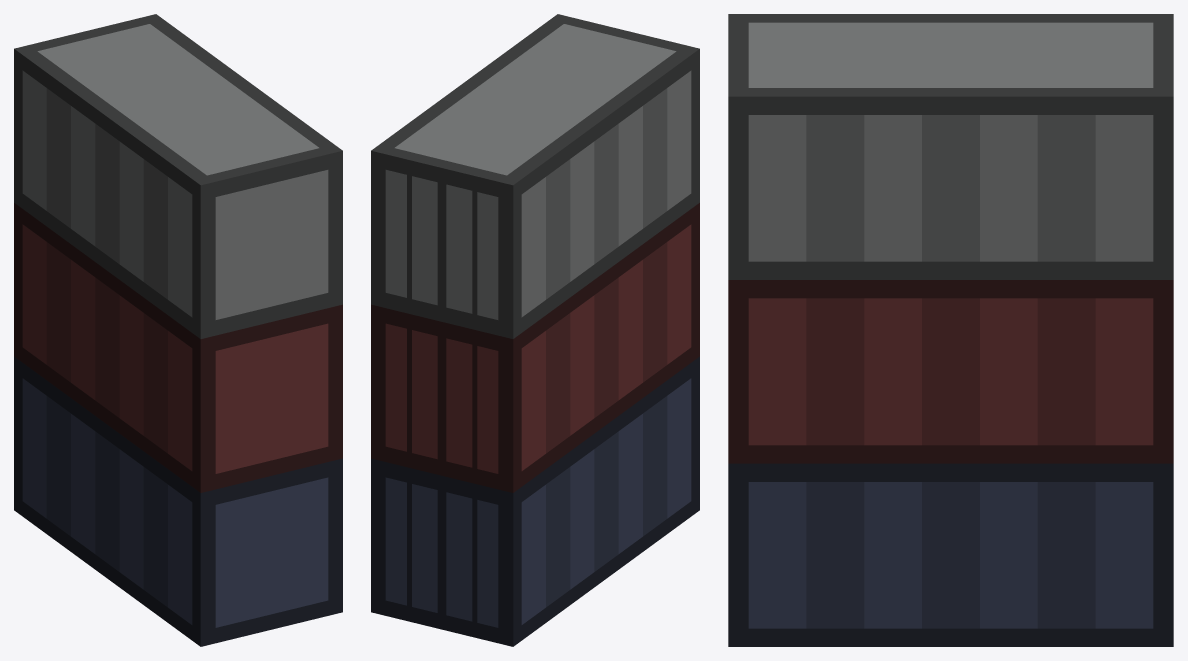
The model's file is container-stack-3.glb.
The picture shows the model from 3 angles, left to right: view 1: azimuth 30°, elevation 25°; view 2: azimuth 150°, elevation 25°; view 3: azimuth 270°, elevation 25°; orthographic projection. The views are drawn at different scales.
Parts seen in each view (by area): view 1: container-stack-3; view 2: container-stack-3; view 3: container-stack-3.
Part boxes in pixels (x1=…): container-stack-3: x1=14, y1=14, x2=342, y2=646; container-stack-3: x1=371, y1=14, x2=699, y2=646; container-stack-3: x1=728, y1=14, x2=1173, y2=646.
Size of the model in its own units: 5.8 by 18 by 13.2.
